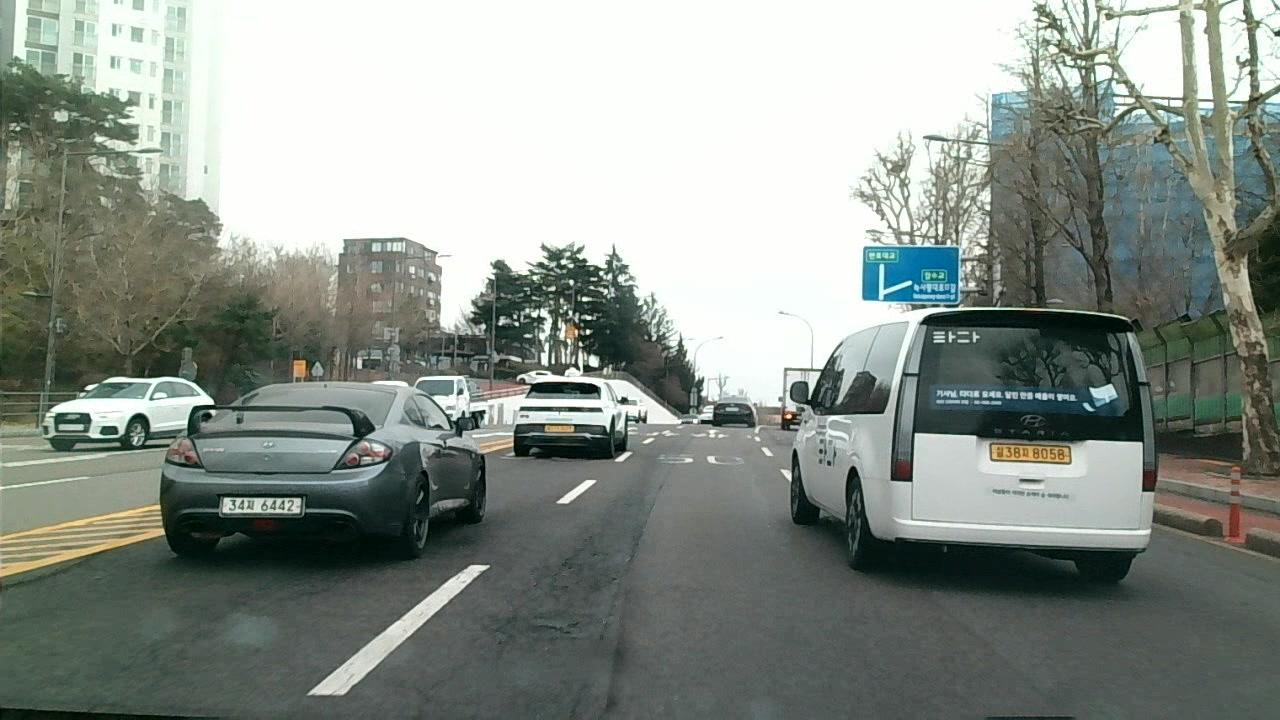banner: (490, 532, 622, 666), (628, 484, 666, 570)
